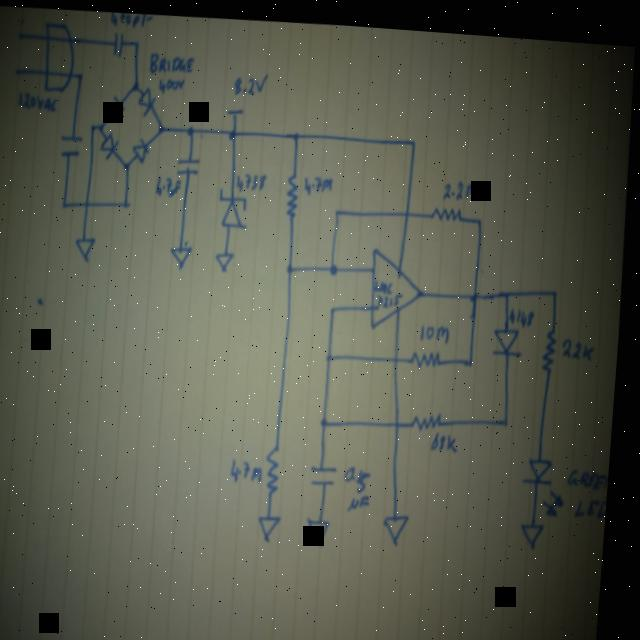capacitor: (316, 457, 345, 482), (61, 132, 85, 157), (177, 152, 202, 174), (112, 28, 125, 56)
crossover: (404, 200, 415, 211), (398, 412, 408, 423), (397, 349, 405, 358), (86, 198, 92, 207)
diode: (525, 448, 573, 509), (218, 182, 252, 226), (492, 317, 529, 350), (137, 84, 158, 115), (106, 92, 126, 121), (101, 129, 121, 158), (134, 134, 152, 161)
ground: (389, 506, 417, 539), (171, 240, 197, 267), (264, 509, 288, 538), (313, 512, 337, 541), (527, 513, 551, 538), (77, 234, 100, 260), (216, 246, 238, 269)
junction: (331, 258, 342, 271), (229, 125, 240, 137), (130, 77, 141, 89), (473, 283, 484, 294), (288, 257, 298, 269), (292, 126, 302, 137), (325, 411, 335, 422), (158, 120, 167, 132), (188, 122, 197, 133), (124, 197, 133, 208), (329, 346, 338, 357), (554, 278, 562, 288), (506, 409, 513, 420), (506, 280, 514, 289), (477, 209, 485, 218), (99, 121, 106, 131), (471, 351, 479, 359), (64, 198, 71, 207), (78, 70, 85, 79), (412, 131, 419, 140), (126, 159, 132, 168), (336, 202, 342, 211), (134, 36, 140, 44), (91, 121, 97, 129), (333, 300, 339, 308)
resistor: (269, 441, 289, 491), (285, 168, 304, 214), (545, 319, 564, 364), (414, 341, 447, 364), (416, 403, 448, 425), (433, 197, 465, 216)
terminal: (227, 101, 245, 114), (13, 28, 25, 41), (11, 65, 24, 77)
text: (348, 458, 381, 508), (149, 48, 196, 74), (572, 456, 615, 482), (232, 65, 270, 94), (235, 450, 271, 480), (17, 88, 58, 113), (443, 170, 481, 195), (375, 273, 407, 302), (565, 327, 600, 353), (109, 9, 154, 27), (237, 165, 269, 190), (581, 486, 614, 509), (305, 168, 335, 193), (156, 172, 185, 196), (423, 316, 455, 337), (512, 297, 540, 320), (436, 424, 464, 445), (159, 74, 186, 94)
